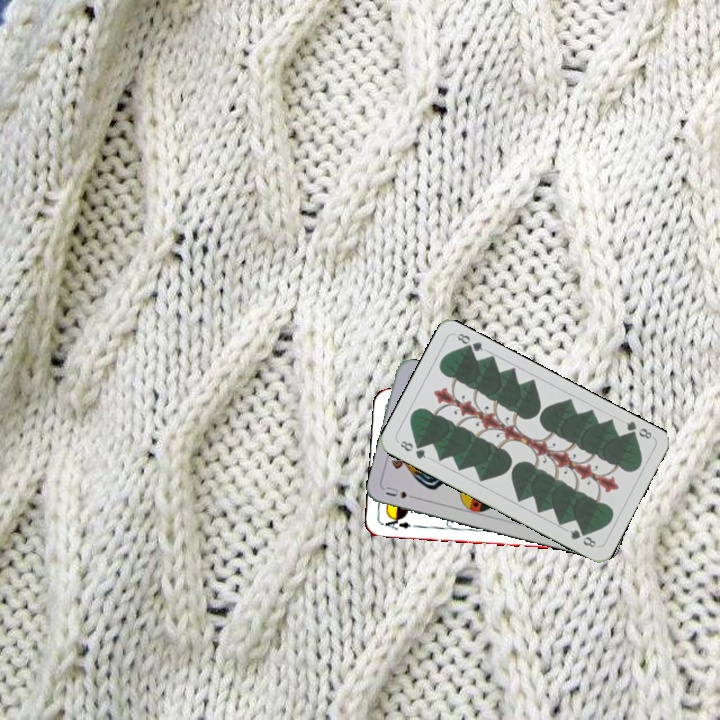EA: (379, 513, 413, 533)
G8: (622, 417, 655, 442), (396, 437, 428, 462)
SU: (382, 482, 421, 502)
